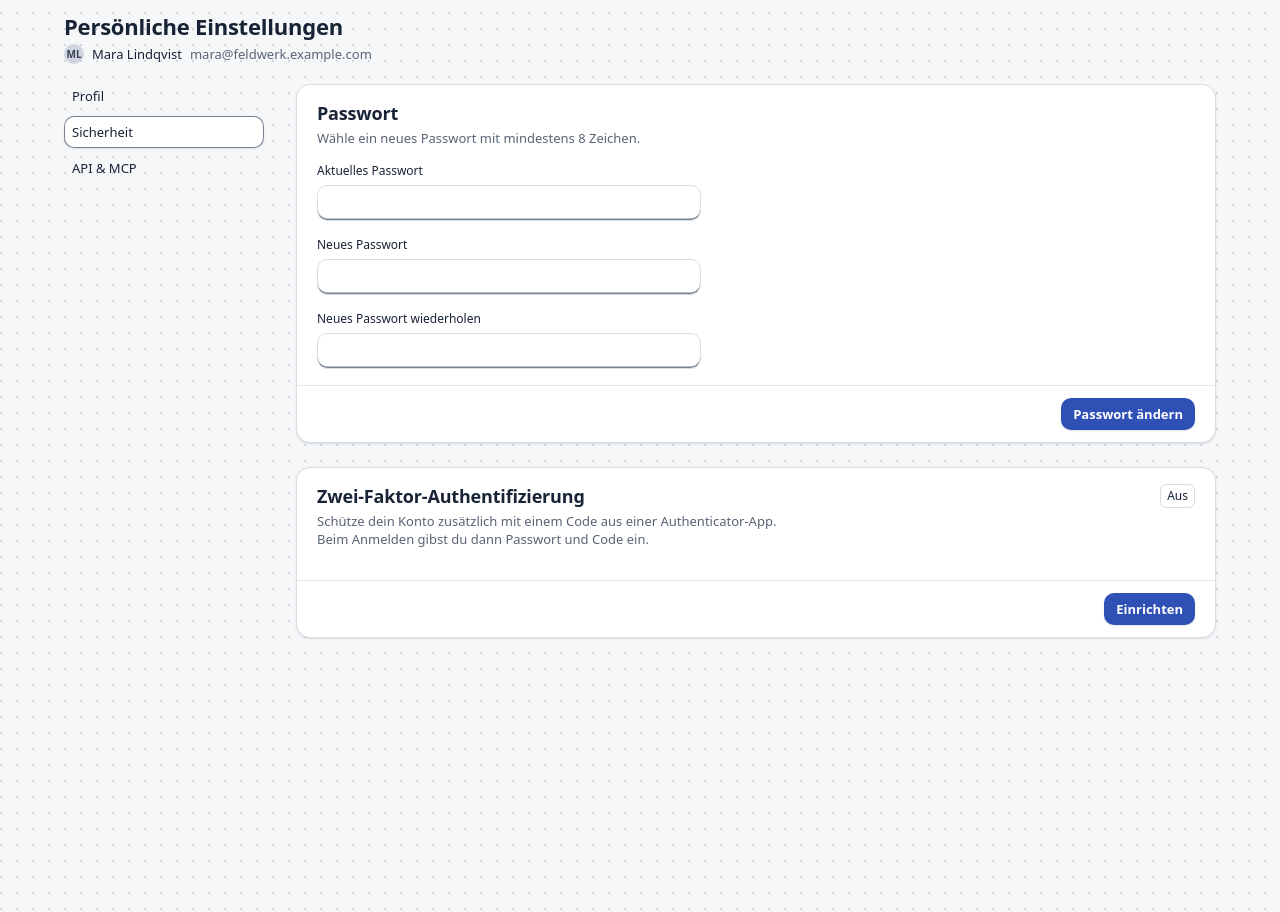
Test: Security: password › checks the fields before it asks the server, and shows each problem at its field
Type "kurz" into the password field labelled "Neues Passwort" at (509, 277), box [317,259,701,295]
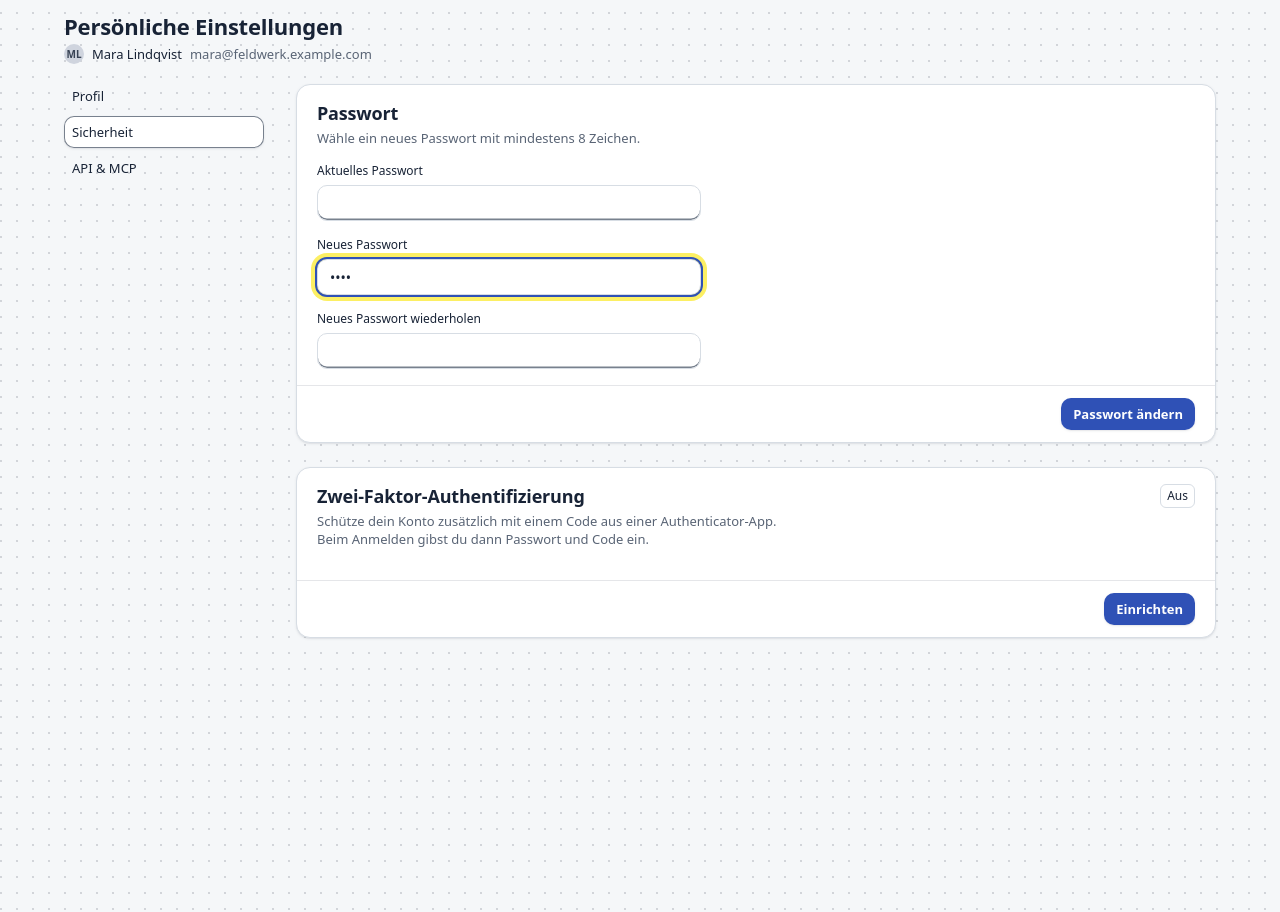
Type "anders" into the password field labelled "Neues Passwort wiederholen" at (509, 351), box [317,333,701,369]
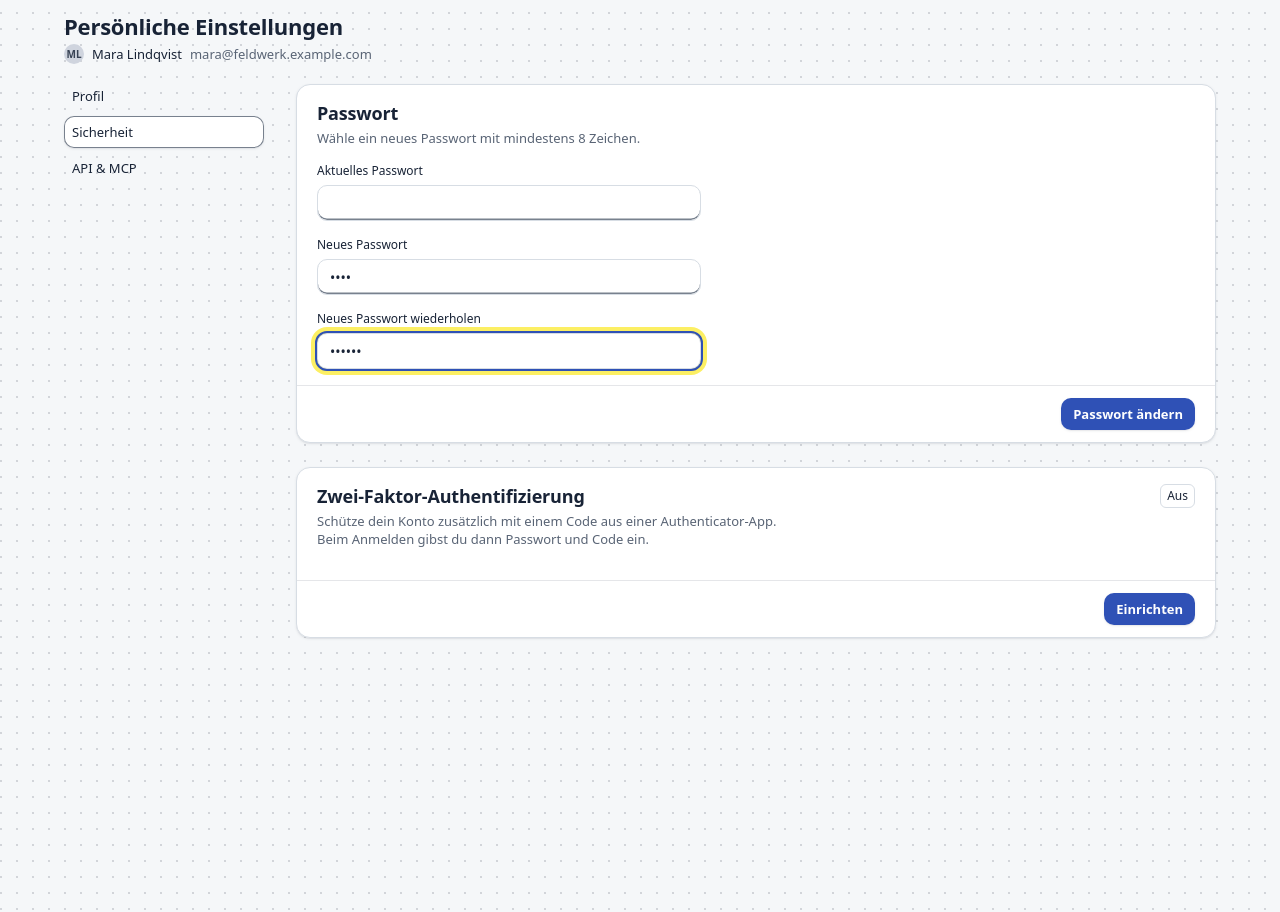
Click the button "Passwort ändern" at (1128, 414), box [1061,398,1195,430]
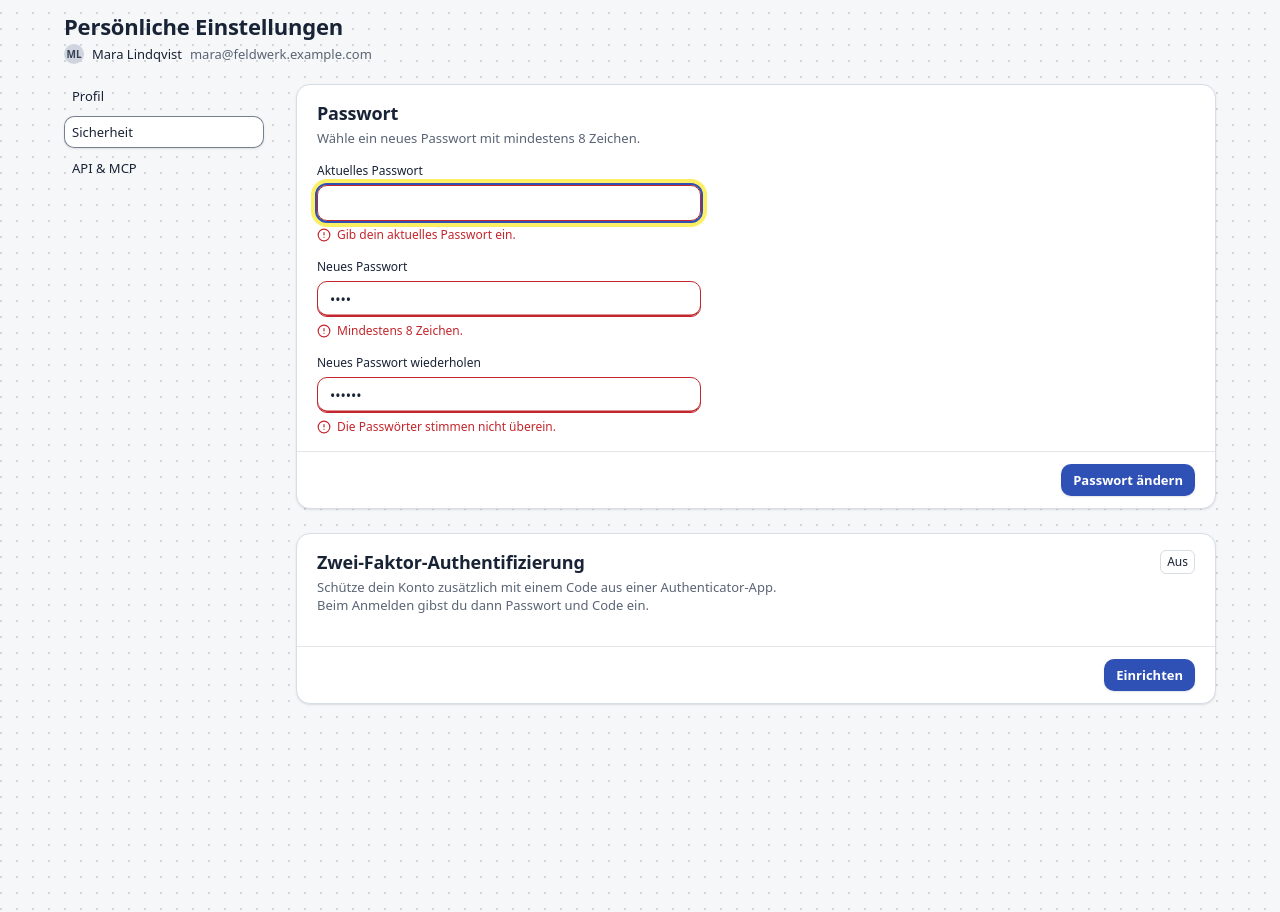
expect the text "Gib dein aktuelles Passwort ein." is shown: met, box [317,226,516,243]
expect the text "Mindestens 8 Zeichen." is shown: met, box [317,322,463,339]
expect the text "Die Passwörter stimmen nicht überein." is shown: met, box [317,418,556,435]
